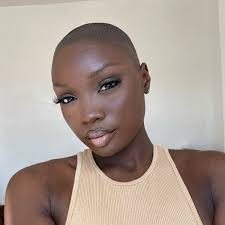person: (49, 19, 151, 160)
